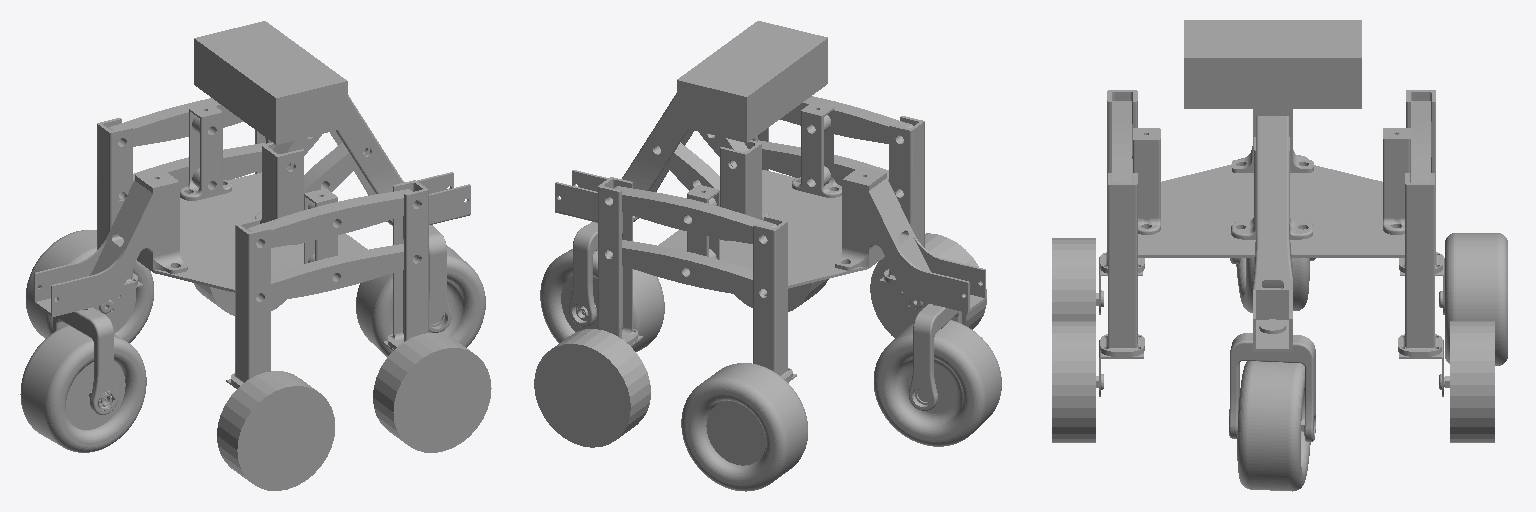
The robot description file, URDF, robot "SHRIM_MECHANICAL_BACKUP":
<?xml version="1.0" ?>
<robot name="SHRIM_MECHANICAL_BACKUP">

<material name="silver">
  <color rgba="0.700 0.700 0.700 1.000"/>
</material>

<link name="base_footprint"/>

<joint name="base_footprint_to_base_link" type="fixed">
  <parent link="base_footprint"/>
  <child link="base_link"/>
  <origin xyz="0 0 0" rpy="0 0 1.57079632679"/>
</joint>

<link name="base_link">
  <inertial>
    <origin xyz="0.0176847751641402 0.00229090870237322 0.05599845057809939" rpy="0 0 0"/>
    <mass value="38.09333724864147"/>
    <inertia ixx="0.7492582184178012" iyy="0.9519457840083874" izz="1.3350272647734087" ixy="-0.05331941683438979" iyz="0.013669358896541806" ixz="0.03806289907793825"/>
  </inertial>
  <visual>
    <origin xyz="0.479998 0.122814 0" rpy="0 0 0"/>
    <geometry>
      <mesh filename="package://shrimp_modu/meshes/base_link.stl" scale="0.001 0.001 0.001"/>
    </geometry>
    <material name="silver"/>
  </visual>
  <collision>
    <origin xyz="0.029998 0.002814 0.12" rpy="0 0 0"/>
    <geometry>
      <box size="0.3 0.2 0.05"/> 
    </geometry>
  </collision>
</link>

<link name="camera_link">
  <visual>
    <origin xyz="0 0 0" rpy="0 0 0"/>
    <geometry>
      <box size="0.08 0.16 0.05"/>
    </geometry>
    <material name="silver"/>
  </visual>
  <collision>
    <origin xyz="0 0 0" rpy="0 0 0"/>
    <geometry>
      <box size="0.08 0.16 0.05"/>
    </geometry>
  </collision>
</link>

  <joint name="base_footprint_to_camera_link" type="fixed">
    <parent link="base_footprint"/>
    <child link="camera_link"/>
    <origin xyz="0.02 0 0.30" rpy="0 0 0"/>
  </joint>

<link name="left_camera_frame"/>

<joint name="camera_link_to_left_camera_frame" type="fixed">
  <parent link="camera_link"/>
  <child link="left_camera_frame"/>
  <origin xyz="0 0.035 0" rpy="0 0 0"/>
</joint>

<link name="left_camera_optical_frame"/>

<joint name="left_camera_frame_to_left_camera_optical_frame" type="fixed">
  <parent link="left_camera_frame"/>
  <child link="left_camera_optical_frame"/>
  <origin xyz="0 0 0" rpy="-1.57079632679 0 -1.57079632679"/>
</joint>

<link name="right_camera_frame"/>

<joint name="camera_link_to_right_camera_frame" type="fixed">
  <parent link="camera_link"/>
  <child link="right_camera_frame"/>
  <origin xyz="0 -0.035 0" rpy="0 0 0"/>
</joint>

<link name="right_camera_optical_frame"/>

<joint name="right_camera_frame_to_right_camera_optical_frame" type="fixed">
  <parent link="right_camera_frame"/>
  <child link="right_camera_optical_frame"/>
  <origin xyz="0 0 0" rpy="-1.57079632679 0 -1.57079632679"/>
</joint>
  
<link name="base_link1steering_link1">
  <inertial>
    <origin xyz="0.002194868238111991 0.0005061677799256814 -0.0707339403330228" rpy="0 0 0"/>
    <mass value="4.457265805320285"/>
    <inertia ixx="0.009395702554931329" iyy="0.006553865002069115" izz="0.005176275252156026" ixy="-0.00031045229105475247" iyz="1.0887867375387883e-05" ixz="4.7180143694258714e-05"/>
  </inertial>
  <visual>
    <origin xyz="0.479998 0.312814 -0.098158" rpy="0 0 0"/>
    <geometry>
      <mesh filename="package://shrimp_modu/meshes/base_link1steering_link1.stl" scale="0.001 0.001 0.001"/>
    </geometry>
    <material name="silver"/>
  </visual>
  <!--
  <collision>
    <origin xyz="0.479998 0.312814 -0.098158" rpy="0 0 0"/>
    <geometry>
      <mesh filename="package://shrimp_modu/meshes/base_link1steering_link1.stl" scale="0.001 0.001 0.001"/>
    </geometry>
  </collision>
  -->
</link>
<!--
<link name="base_link1rear_left_wheel1">
  <inertial>
    <origin xyz="0 0 0" rpy="0 0 0"/>
    <mass value="4.038573624524774"/>
    <inertia ixx="0.008052263449310162" iyy="0.004843717891383825" izz="0.004843717891341637" ixy="0" iyz="0" ixz="0"/>
  </inertial>
  <visual>
    <origin xyz="0.658498 0.045778 0.055" rpy="0 0 0"/>
    <geometry>
      <mesh filename="package://shrimp_modu/meshes/base_link1rear_left_wheel1.stl" scale="0.001 0.001 0.001"/>
    </geometry>
    <material name="silver"/>
  </visual>
  <collision>
   <origin xyz="0 0 0" rpy="1.5707 0 0"/>
   <geometry>
    <cylinder radius="0.055" length="0.04"/>
   </geometry>
  </collision>
</link>
-->
<link name="base_link1rear_left_wheel1">
  <inertial>
    <origin xyz="0 0 0" rpy="0 0 0"/>
    <mass value="4.0385"/>
    <inertia ixx="0.00805" iyy="0.00484" izz="0.00484" ixy="0" iyz="0" ixz="0"/>
  </inertial>
  
  <visual>
    <origin xyz="0 0 0" rpy="0 1.5707 0"/> 
    <geometry>
      <cylinder radius="0.055" length="0.04"/>
    </geometry>
    <material name="silver"/>
  </visual>
  
  <collision>
    <origin xyz="0 0 0" rpy="0 1.5707 0"/>
    <geometry>
      <cylinder radius="0.055" length="0.04"/>
    </geometry>
  </collision>
</link>
<!--
<link name="base_link1front_left_wheel1">
  <inertial>
    <origin xyz="0 0 0" rpy="0 0 0"/>
    <mass value="4.0385736245247745"/>
    <inertia ixx="0.008052263449332325" iyy="0.004843717891371835" izz="0.004843717891406474" ixy="0" iyz="0" ixz="0"/>
  </inertial>
  <visual>
    <origin xyz="0.658498 0.220778 0.055" rpy="0 0 0"/>
    <geometry>
      <mesh filename="package://shrimp_modu/meshes/base_link1front_left_wheel1.stl" scale="0.001 0.001 0.001"/>
    </geometry>
    <material name="silver"/>
  </visual>
  <collision>
   <origin xyz="0 0 0" rpy="1.5707 0 0"/>
   <geometry>
    <cylinder radius="0.055" length="0.04"/>
   </geometry>
  </collision>
</link>
-->
<link name="base_link1front_left_wheel1">
  <inertial>
    <origin xyz="0 0 0" rpy="0 0 0"/>
    <mass value="4.0385"/>
    <inertia ixx="0.00805" iyy="0.00484" izz="0.00484" ixy="0" iyz="0" ixz="0"/>
  </inertial>
  
  <visual>
    <origin xyz="0 0 0" rpy="0 1.5707 0"/> 
    <geometry>
      <cylinder radius="0.055" length="0.04"/>
    </geometry>
    <material name="silver"/>
  </visual>
  
  <collision>
    <origin xyz="0 0 0" rpy="0 1.5707 0"/>
    <geometry>
      <cylinder radius="0.055" length="0.04"/>
    </geometry>
  </collision>
</link>
<!--
<link name="base_link1front_right_wheel1">
  <inertial>
    <origin xyz="0 0 0" rpy="0 0 0"/>
    <mass value="4.038573624524768"/>
    <inertia ixx="0.00805226344931892" iyy="0.004843717891439003" izz="0.0048437178914495505" ixy="0" iyz="0" ixz="0"/>
  </inertial>
  <visual>
    <origin xyz="0.300305 0.220798 0.055" rpy="0 0 0"/>
    <geometry>
      <mesh filename="package://shrimp_modu/meshes/base_link1front_right_wheel1.stl" scale="0.001 0.001 0.001"/>
    </geometry>
    <material name="silver"/>
  </visual>
  <collision>
   <origin xyz="0 0 0" rpy="1.5707 0 0"/>
   <geometry>
    <cylinder radius="0.055" length="0.04"/>
   </geometry>
 </collision>
</link>
-->
<link name="base_link1front_right_wheel1">
  <inertial>
    <origin xyz="0 0 0" rpy="0 0 0"/>
    <mass value="4.0385"/>
    <inertia ixx="0.00805" iyy="0.00484" izz="0.00484" ixy="0" iyz="0" ixz="0"/>
  </inertial>
  
  <visual>
    <origin xyz="0 0 0" rpy="0 1.5707 0"/> 
    <geometry>
      <cylinder radius="0.055" length="0.04"/>
    </geometry>
    <material name="silver"/>
  </visual>
  
  <collision>
    <origin xyz="0 0 0" rpy="0 1.5707 0"/>
    <geometry>
      <cylinder radius="0.055" length="0.04"/>
    </geometry>
  </collision>
</link>
<!--
<link name="base_link1rear_right_wheel1">
  <inertial>
    <origin xyz="0 0 0" rpy="0 0 0"/>
    <mass value="4.038573624524772"/>
    <inertia ixx="0.008052263449304929" iyy="0.0048437178914323975" izz="0.004843717891439225" ixy="" iyz="0" ixz="0"/>
  </inertial>
  <visual>
    <origin xyz="0.300245 0.045778 0.055" rpy="0 0 0"/>
    <geometry>
      <mesh filename="package://shrimp_modu/meshes/base_link1rear_right_wheel1.stl" scale="0.001 0.001 0.001"/>
    </geometry>
    <material name="silver"/>
  </visual>
  <collision>
   <origin xyz="0 0 0" rpy="1.5707 0 0"/>
   <geometry>
    <cylinder radius="0.055" length="0.04"/>
   </geometry>
  </collision>
</link>
-->
<link name="base_link1rear_right_wheel1">
  <inertial>
    <origin xyz="0 0 0" rpy="0 0 0"/>
    <mass value="4.0385"/>
    <inertia ixx="0.00805" iyy="0.00484" izz="0.00484" ixy="0" iyz="0" ixz="0"/>
  </inertial>
  
  <visual>
    <origin xyz="0 0 0" rpy="0 1.5707 0"/> 
    <geometry>
      <cylinder radius="0.055" length="0.04"/>
    </geometry>
    <material name="silver"/>
  </visual>
  
  <collision>
    <origin xyz="0 0 0" rpy="0 1.5707 0"/>
    <geometry>
      <cylinder radius="0.055" length="0.04"/>
    </geometry>
  </collision>
</link>

<link name="base_link1steering_link21">
  <inertial>
    <origin xyz="-0.0008508055263453662 7.652312068723299e-05 -0.08097309683513666" rpy="0 0 0"/>
    <mass value="4.462686429067662"/>
    <inertia ixx="0.009364051738233653" iyy="0.006526362898680915" izz="0.005181843353736726" ixy="0.0003067971043931583" iyz="1.6241652035040716e-06" ixz="-1.80196688353354e-05"/>
  </inertial>
  <visual>
    <origin xyz="0.479998 -0.067186 -0.108158" rpy="0 0 0"/>
    <geometry>
      <mesh filename="package://shrimp_modu/meshes/base_link1steering_link21.stl" scale="0.001 0.001 0.001"/>
    </geometry>
    <material name="silver"/>
  </visual>
  <!--
  <collision>
    <origin xyz="0.479998 -0.067186 -0.108158" rpy="0 0 0"/>
    <geometry>
      <mesh filename="package://shrimp_modu/meshes/base_link1steering_link21.stl" scale="0.001 0.001 0.001"/>
    </geometry>
  </collision>
  -->
</link>
<link name="base_link1steering_link1front_wheel1">
  <inertial>
    <origin xyz="-0.0030936035759338565 0.0003317342201268336 2.992209879454366e-07" rpy="0 0 0"/>
    <mass value="4.038573624528018"/>
    <inertia ixx="0.0080158628152735" iyy="0.004880118453749249" izz="0.004843717676211723" ixy="-0.00033980528040744584" iyz="6.855569584240939e-11" ixz="7.618669584097404e-12"/>
  </inertial>
  <visual>
    <origin xyz="0.474575 0.312581 -0.022602" rpy="0 0 0"/>
    <geometry>
      <mesh filename="package://shrimp_modu/meshes/base_link1steering_link1front_wheel1.stl" scale="0.001 0.001 0.001"/>
    </geometry>
    <material name="silver"/>
  </visual>
  <collision>
    <origin xyz="0 0 0" rpy="0 1.5707 0"/> <geometry>
      <cylinder radius="0.055" length="0.04"/>
    </geometry>
  </collision>
</link>
  
<link name="base_link1steering_link21back_wheel1">
  <inertial>
    <origin xyz="0.004547870918976515 0.00048631053112914435 -3.8354415499153305e-07" rpy="0 0 0"/>
    <mass value="4.038573624524766"/>
    <inertia ixx="0.008015977230669234" iyy="0.004880004110082492" izz="0.0048437178914398915" ixy="0.00033927760897881076" iyz="-1.1752751549742868e-15" ixz="-5.898059818321144e-16"/>
  </inertial>
  <visual>
    <origin xyz="0.485347 -0.0668 -0.022445" rpy="0 0 0"/>
    <geometry>
      <mesh filename="package://shrimp_modu/meshes/base_link1steering_link21back_wheel1.stl" scale="0.001 0.001 0.001"/>
    </geometry>
    <material name="silver"/>
  </visual>
  <collision>
    <origin xyz="0 0 0" rpy="0 1.5707 0"/> <geometry>
      <cylinder radius="0.055" length="0.04"/>
    </geometry>
  </collision>
</link>
   
<joint name="base_link1_steering_front_joint" type="continuous">
  <origin xyz="0 -0.19 0.098158" rpy="0 0 0"/>
  <parent link="base_link"/>
  <child link="base_link1steering_link1"/>
  <axis xyz="0.0 0.0 1.0"/>
</joint>

<joint name="base_link1_rear_left_wheel_base_link_joint" type="continuous">
  <origin xyz="-0.1785 0.077036 0.021662" rpy="0 0 0"/>
  <parent link="base_link"/>
  <child link="base_link1rear_left_wheel1"/>
  <axis xyz="-1.0 0.0 -0.0"/>
</joint>

<joint name="base_link1_front_left_wheel_base_link_joint" type="continuous">
  <origin xyz="-0.1785 -0.097964 0.021662" rpy="0 0 0"/>
  <parent link="base_link"/>
  <child link="base_link1front_left_wheel1"/>
  <axis xyz="-1.0 0.0 -0.0"/>
</joint>

<joint name="base_link1_front_right_wheel_base_link_joint" type="continuous">
  <origin xyz="0.179693 -0.097984 0.021662" rpy="0 0 0"/>
  <parent link="base_link"/>
  <child link="base_link1front_right_wheel1"/>
  <axis xyz="1.0 -0.0 0.0"/>
</joint>

<joint name="base_link1_rear_right_wheel_base_link_joint" type="continuous">
  <origin xyz="0.179753 0.077036 0.021662" rpy="0 0 0"/>
  <parent link="base_link"/>
  <child link="base_link1rear_right_wheel1"/>
  <axis xyz="1.0 -0.0 0.0"/>
</joint>

<joint name="base_link1_steering_back_joint" type="continuous">
  <origin xyz="0 0.19 0.108158" rpy="0 0 0"/>
  <parent link="base_link"/>
  <child link="base_link1steering_link21"/>
  <axis xyz="0.0 0.0 1.0"/>
</joint>

<joint name="base_link1steering_link1_Revolucion_2" type="continuous">
  <origin xyz="0.005423 0.000233 -0.075556" rpy="0 0 0"/>
  <parent link="base_link1steering_link1"/>
  <child link="base_link1steering_link1front_wheel1"/>
  <axis xyz="-1 0 0"/>
</joint>

<joint name="base_link1steering_link21_Revolucion_2" type="continuous">
  <origin xyz="-0.005349 -0.000386 -0.085713" rpy="0 0 0"/>
  <parent link="base_link1steering_link21"/>
  <child link="base_link1steering_link21back_wheel1"/>
  <axis xyz="1 0 0"/>
</joint>

<ros2_control name="ShrimpSystem" type="system">
  <hardware>
    <plugin>gazebo_ros2_control/GazeboSystem</plugin>
  </hardware>

  <!-- RUEDAS DE TRACCIÓN (velocity) -->
  <joint name="base_link1_rear_left_wheel_base_link_joint">
    <command_interface name="velocity"/>
    <state_interface name="position">
      <param name="initial_value">0.0</param>
    </state_interface>
    <state_interface name="velocity"/>
  </joint>

  <joint name="base_link1_rear_right_wheel_base_link_joint">
    <command_interface name="velocity"/>
    <state_interface name="position">
      <param name="initial_value">0.0</param>
    </state_interface>
    <state_interface name="velocity"/>
  </joint>

  <joint name="base_link1_front_left_wheel_base_link_joint">
    <command_interface name="velocity"/>
    <state_interface name="position">
      <param name="initial_value">0.0</param>
    </state_interface>
    <state_interface name="velocity"/>
  </joint>

  <joint name="base_link1_front_right_wheel_base_link_joint">
    <command_interface name="velocity"/>
    <state_interface name="position">
      <param name="initial_value">0.0</param>
    </state_interface>
    <state_interface name="velocity"/>
  </joint>

  <!-- STEERING (position) -->
  <joint name="base_link1_steering_front_joint">
    <command_interface name="position"/>
    <state_interface name="position">
      <param name="initial_value">0.0</param>
    </state_interface>
  </joint>

  <joint name="base_link1_steering_back_joint">
    <command_interface name="position"/>
    <state_interface name="position">
      <param name="initial_value">0.0</param>
    </state_interface>
  </joint>

  <!-- RUEDAS DIRECCIONALES PASIVAS (velocity) -->
  <!-- NO se controlan activamente, pero necesitan interfaces para publicación de estados -->
  <joint name="base_link1steering_link1_Revolucion_2">
    <command_interface name="velocity"/>
    <state_interface name="position">
      <param name="initial_value">0.0</param>
    </state_interface>
    <state_interface name="velocity"/>
  </joint>

  <joint name="base_link1steering_link21_Revolucion_2">
    <command_interface name="velocity"/>
    <state_interface name="position">
      <param name="initial_value">0.0</param>
    </state_interface>
    <state_interface name="velocity"/>
  </joint>

</ros2_control>

<!-- REAR LEFT -->

<gazebo reference="base_link1rear_left_wheel1">
  <mu1>200.0</mu1>
  <mu2>200.0</mu2>
  <kp>1000000.0</kp>
  <kd>1.0</kd>
  <minDepth>0.001</minDepth>
</gazebo>

<gazebo reference="base_link1rear_right_wheel1">
  <mu1>200.0</mu1>
  <mu2>200.0</mu2>
  <kp>1000000.0</kp>
  <kd>1.0</kd>
  <minDepth>0.001</minDepth>
</gazebo>

<gazebo reference="base_link1front_left_wheel1">
  <mu1>200.0</mu1>
  <mu2>200.0</mu2>
  <kp>1000000.0</kp>
  <kd>1.0</kd>
  <minDepth>0.001</minDepth>
</gazebo>

<gazebo reference="base_link1front_right_wheel1">
  <mu1>200.0</mu1>
  <mu2>200.0</mu2>
  <kp>1000000.0</kp>
  <kd>1.0</kd>
  <minDepth>0.001</minDepth>
</gazebo>

<gazebo>
  <plugin name="gazebo_ros2_control" filename="libgazebo_ros2_control.so">
    <parameters>/home/ivan/ros2_ws/src/shrimp_modu/config/controllers.yaml</parameters>
  </plugin>
</gazebo>

<gazebo>
  <plugin name="ground_truth_p3d" filename="libgazebo_ros_p3d.so">
    <ros>
      <remapping>odom:=/odom_custom</remapping>
    </ros>
    <body_name>base_footprint</body_name>
    <update_rate>50.0</update_rate>
    <xyz_offset>0 0 0</xyz_offset>
    <rpy_offset>0 0 0</rpy_offset>
    <gaussian_noise>0.0</gaussian_noise>
  </plugin>
</gazebo>

<gazebo reference="camera_link">
  <sensor name="left_depth_camera" type="depth">
    <always_on>true</always_on>
    <update_rate>15</update_rate>
    <visualize>true</visualize>
    <pose>0 0.035 0 0 0 0</pose>
    <camera>
      <horizontal_fov>1.3962634</horizontal_fov>
      <image>
        <width>424</width>
        <height>240</height>
        <format>B8G8R8</format>
      </image>
      <depth_camera>
      </depth_camera>
      <clip>
        <near>0.15</near>
        <far>5.0</far>
      </clip>
      <noise>
        <type>gaussian</type>
        <mean>0.0</mean>
        <stddev>0.003</stddev>
      </noise>
    </camera>
    <plugin name="left_depth_camera_controller" filename="libgazebo_ros_camera.so">
      <camera_name>stereo</camera_name>
      <frame_name>left_camera_optical_frame</frame_name>
      <hack_baseline>0.07</hack_baseline>
      <min_depth>0.15</min_depth>
      <max_depth>5.0</max_depth>
    </plugin>
  </sensor>
</gazebo>

<gazebo>
  <ode>
    <solver>
      <type>quick</type>
      <iters>50</iters>
    </solver>
    <constraints>
      <cfm>0.0001</cfm>
      <erp>0.2</erp>
    </constraints>
  </ode>
</gazebo>

</robot>

--- What the picture shows (computed from the rendered views, not written in the file) ---
3 views of the same robot in one strip: view 1: azimuth 30°, elevation 25°; view 2: azimuth 150°, elevation 25°; view 3: azimuth 270°, elevation 25° (orthographic).
Robot: SHRIM_MECHANICAL_BACKUP — 15 links, 14 joints (8 continuous, 6 fixed); root link base_footprint; default pose: all joints at 0.
Visible links, largest first — view 1: base_link, camera_link, base_link1rear_left_wheel1, base_link1front_left_wheel1, base_link1steering_link21back_wheel1, base_link1steering_link1front_wheel1, base_link1steering_link21, base_link1steering_link1, base_link1front_right_wheel1, base_link1rear_right_wheel1; view 2: base_link, camera_link, base_link1steering_link21back_wheel1, base_link1front_right_wheel1, base_link1steering_link1front_wheel1, base_link1rear_left_wheel1, base_link1rear_right_wheel1, base_link1steering_link21, base_link1steering_link1, base_link1front_left_wheel1; view 3: base_link, camera_link, base_link1steering_link1front_wheel1, base_link1front_right_wheel1, base_link1front_left_wheel1, base_link1rear_left_wheel1, base_link1steering_link1, base_link1steering_link21back_wheel1.
Boxes of the visible links, x1=… form: base_link: x1=26, y1=95, x2=470, y2=388; camera_link: x1=194, y1=21, x2=347, y2=144; base_link1rear_left_wheel1: x1=217, y1=371, x2=334, y2=490; base_link1front_left_wheel1: x1=373, y1=333, x2=491, y2=452; base_link1steering_link21back_wheel1: x1=20, y1=325, x2=146, y2=452; base_link1steering_link1front_wheel1: x1=356, y1=246, x2=485, y2=356; base_link1steering_link21: x1=53, y1=307, x2=117, y2=414; base_link1steering_link1: x1=429, y1=225, x2=451, y2=332; base_link1front_right_wheel1: x1=194, y1=283, x2=286, y2=315; base_link1rear_right_wheel1: x1=108, y1=288, x2=135, y2=333; base_link: x1=555, y1=93, x2=985, y2=491; camera_link: x1=677, y1=21, x2=827, y2=142; base_link1steering_link21back_wheel1: x1=874, y1=320, x2=1001, y2=446; base_link1front_right_wheel1: x1=534, y1=329, x2=650, y2=447; base_link1steering_link1front_wheel1: x1=540, y1=249, x2=664, y2=351; base_link1rear_left_wheel1: x1=870, y1=233, x2=986, y2=338; base_link1rear_right_wheel1: x1=706, y1=401, x2=765, y2=465; base_link1steering_link21: x1=908, y1=304, x2=961, y2=410; base_link1steering_link1: x1=569, y1=222, x2=597, y2=326; base_link1front_left_wheel1: x1=734, y1=279, x2=828, y2=311; base_link: x1=1096, y1=90, x2=1507, y2=396; camera_link: x1=1184, y1=20, x2=1361, y2=108; base_link1steering_link1front_wheel1: x1=1237, y1=361, x2=1310, y2=491; base_link1front_right_wheel1: x1=1450, y1=321, x2=1494, y2=442; base_link1front_left_wheel1: x1=1052, y1=321, x2=1095, y2=442; base_link1rear_left_wheel1: x1=1052, y1=238, x2=1095, y2=320; base_link1steering_link1: x1=1229, y1=333, x2=1315, y2=441; base_link1steering_link21back_wheel1: x1=1236, y1=258, x2=1309, y2=312.
Bounding box of the posed robot: 0.5029 × 0.4103 × 0.3633 m (x, y, z).
5 mesh visuals loaded from 5 distinct referenced files (5 binary STL).
